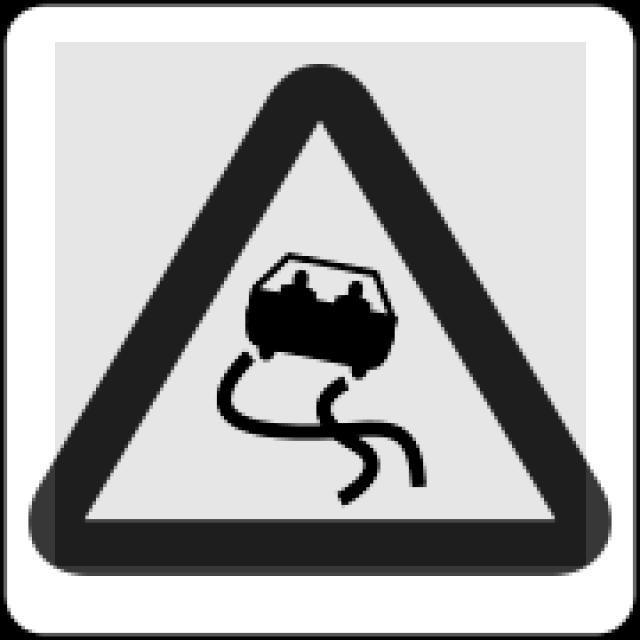slippery road: (29, 57, 607, 578)
